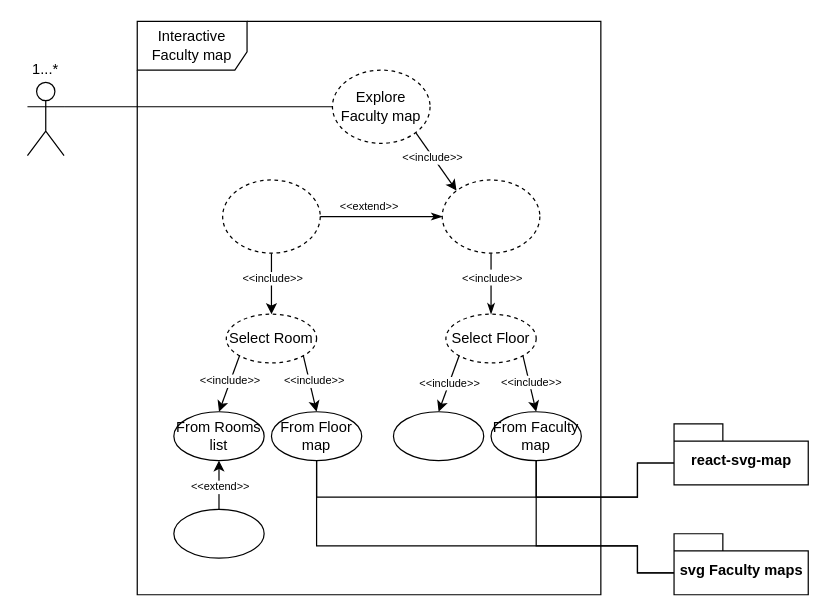
Some shapes in this 830 by 616 pixel diagram are drawn without their labels. Each missing label, with the centre of its shape:
"Explore Floor map" goes at (x=490, y=216).
"From Floors list" goes at (x=438, y=436).
"Get Room information" goes at (x=270, y=216).
"Search Rooms list" goes at (x=218, y=533).
"User" goes at (x=45, y=118).
